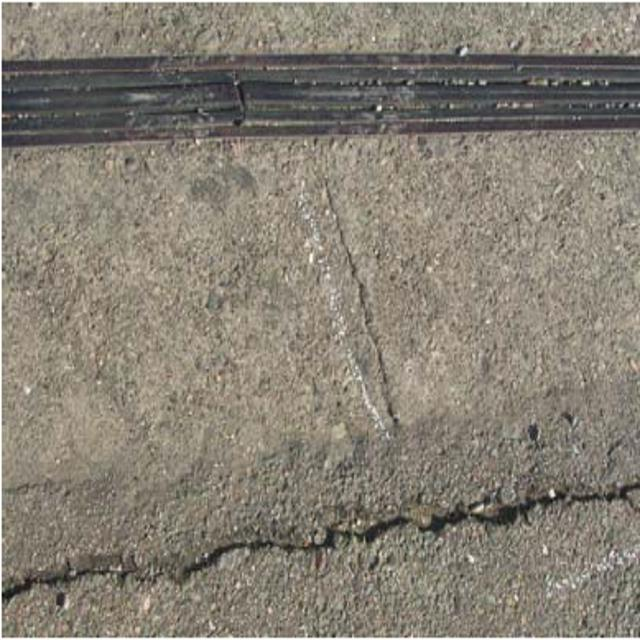crack: (4, 473, 639, 613), (318, 174, 423, 439)
